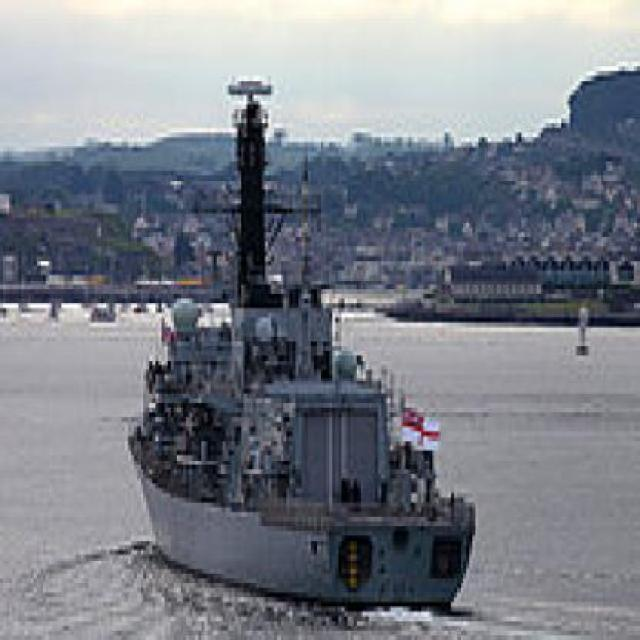warship2: (107, 72, 486, 608)
